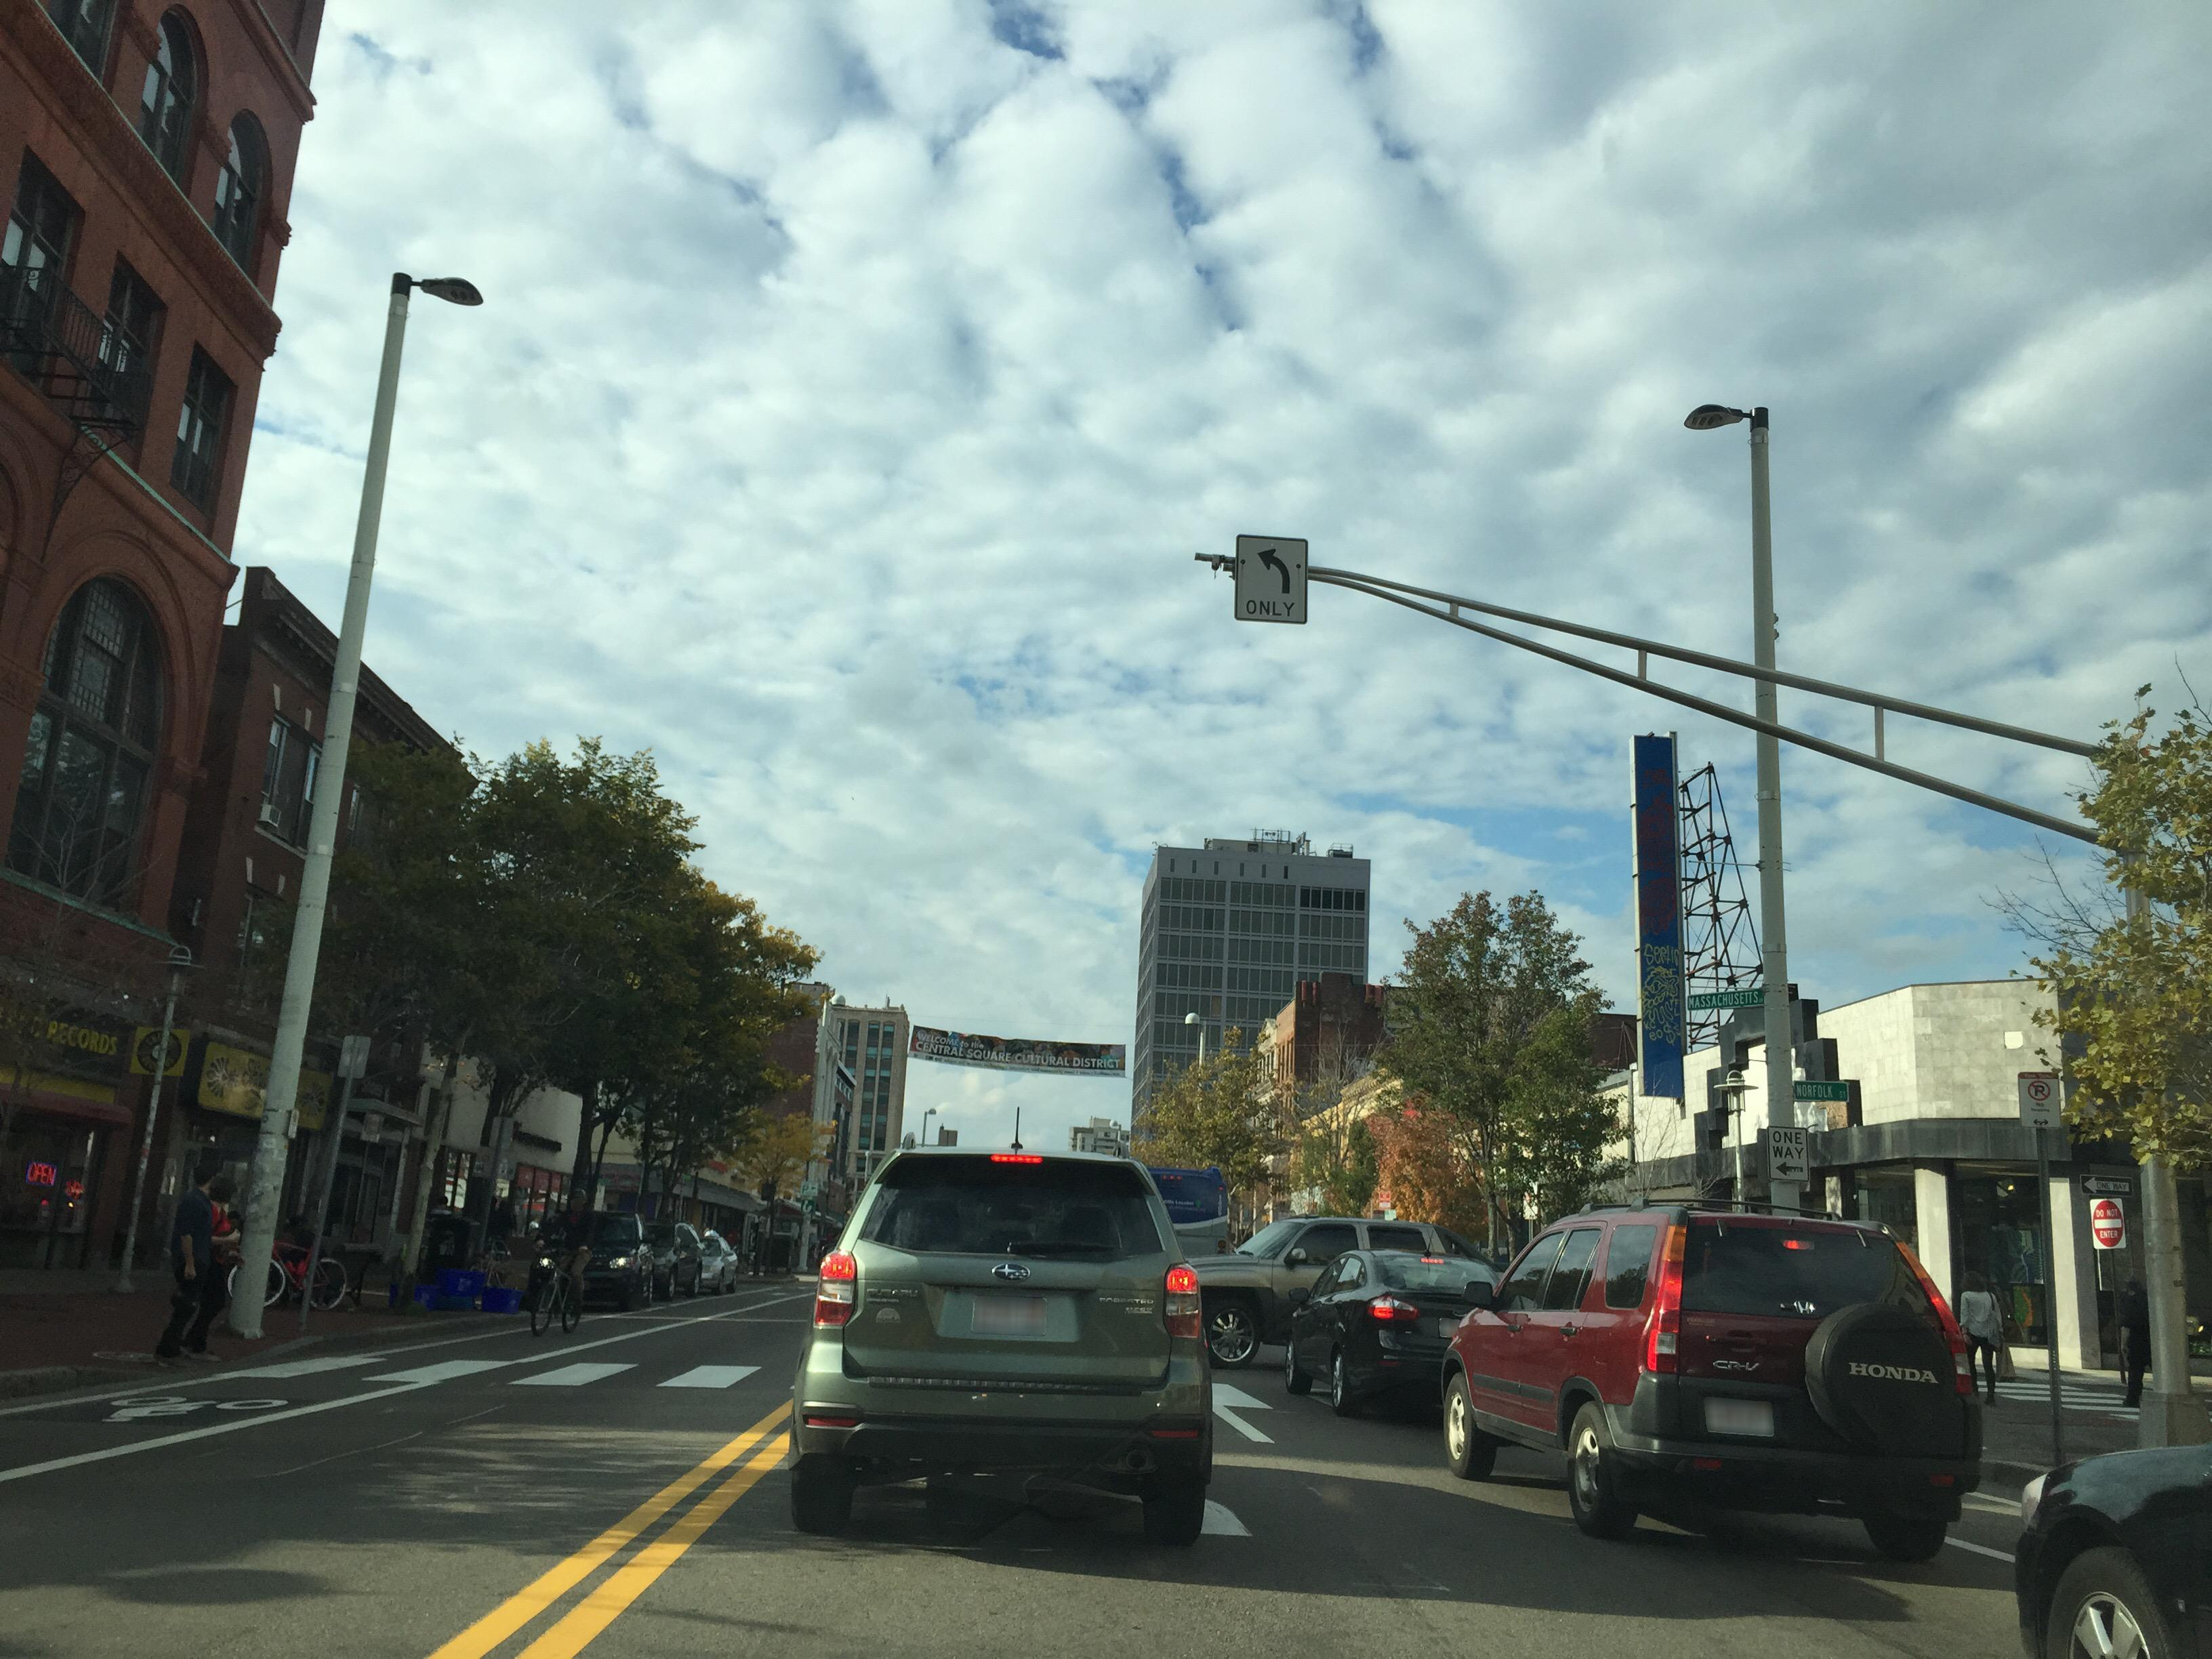vinyl banner: (904, 1007, 1136, 1094)
